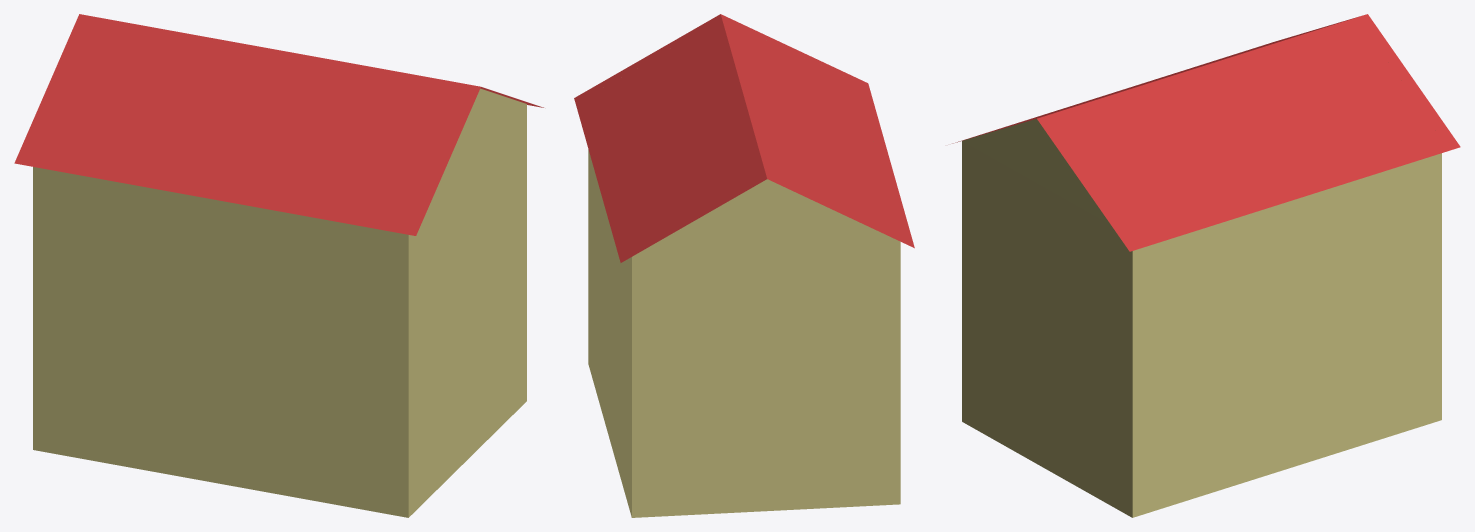
3 renders of one model, left to right at view 1: azimuth 30°, elevation 25°; view 2: azimuth 150°, elevation 25°; view 3: azimuth 270°, elevation 25°, orthographic. The views are drawn at different scales.
Size of the model in its own units: 18.52 by 19.29 by 14.59.
